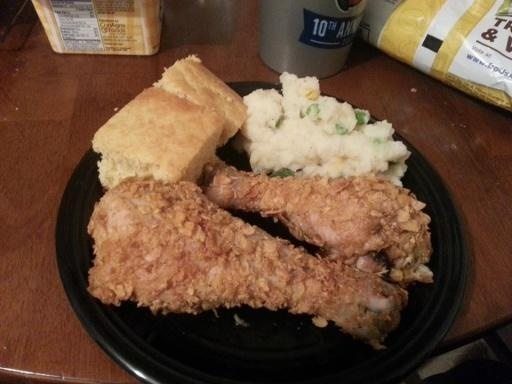background: (68, 32, 346, 210)
